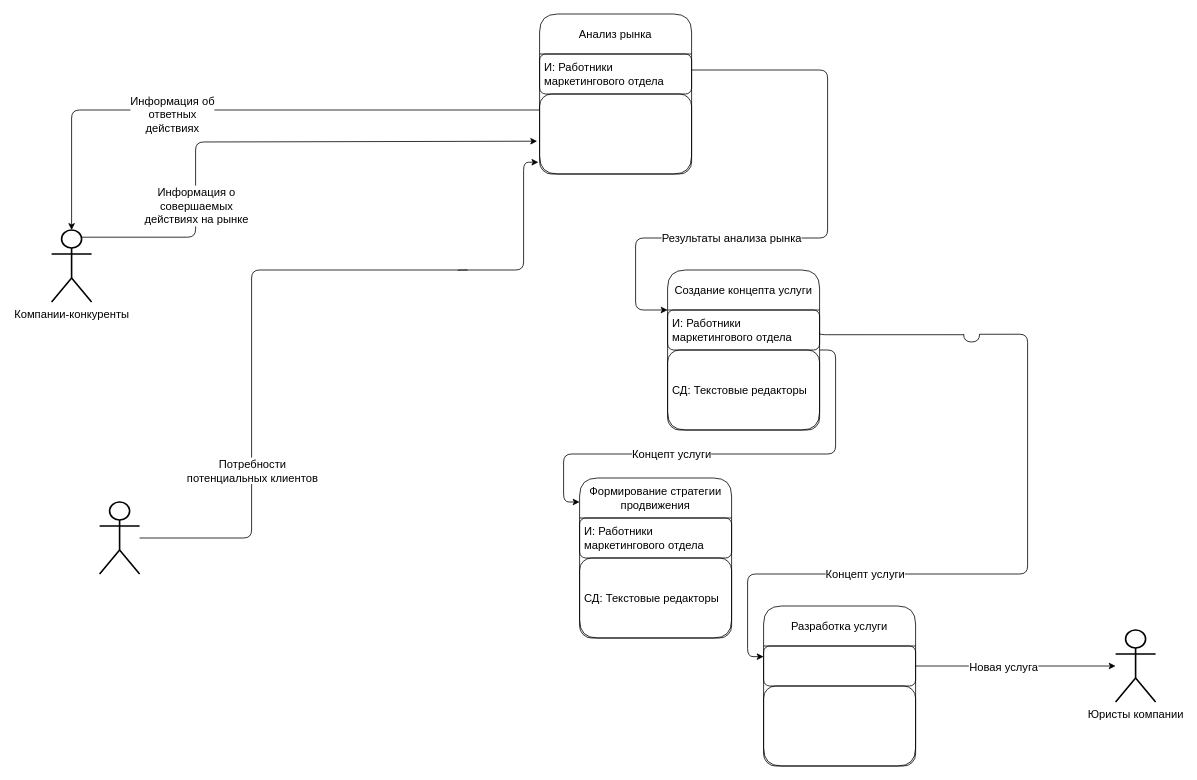
This 1197x780 diagram has some shape labels left out. The centre of each missing label's shape, as x and y in pixels:
И: Разработчики: point (839, 665)
Клиент: point (119, 537)
СД: Программы для анализа рыночной ситуации, сайты: point (615, 133)
СД: С редства разработки ПО: point (839, 725)
